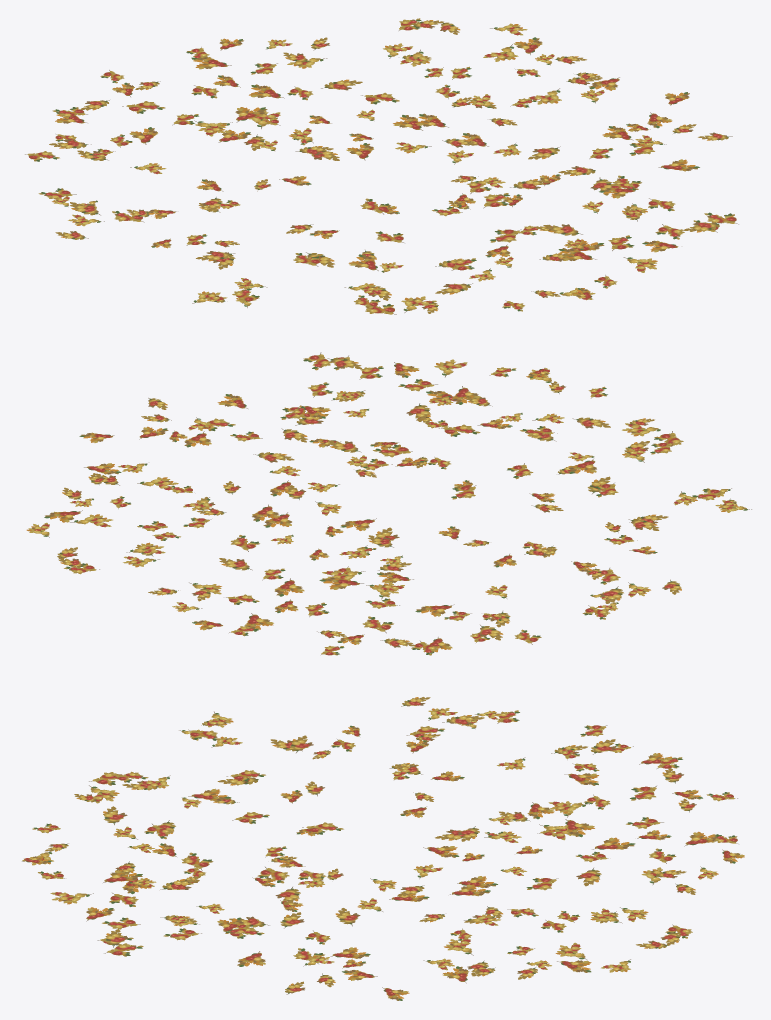
File: pommier_adulte_a.fbx
3 views of the same model, one above another, from view 1: azimuth 30°, elevation 25°; view 2: azimuth 150°, elevation 25°; view 3: azimuth 270°, elevation 25° (orthographic). The views are drawn at different scales.
Visible parts, largest first — view 1: pommier_adulte_a_feuilles_sol; view 2: pommier_adulte_a_feuilles_sol; view 3: pommier_adulte_a_feuilles_sol.
Part boxes in pixels (x1=…): pommier_adulte_a_feuilles_sol: x1=25, y1=18, x2=738, y2=314; pommier_adulte_a_feuilles_sol: x1=26, y1=352, x2=751, y2=655; pommier_adulte_a_feuilles_sol: x1=22, y1=697, x2=744, y2=1000.
Size of what is drawn, in the model's own units: 6.92 by 0.00598 by 6.9.
